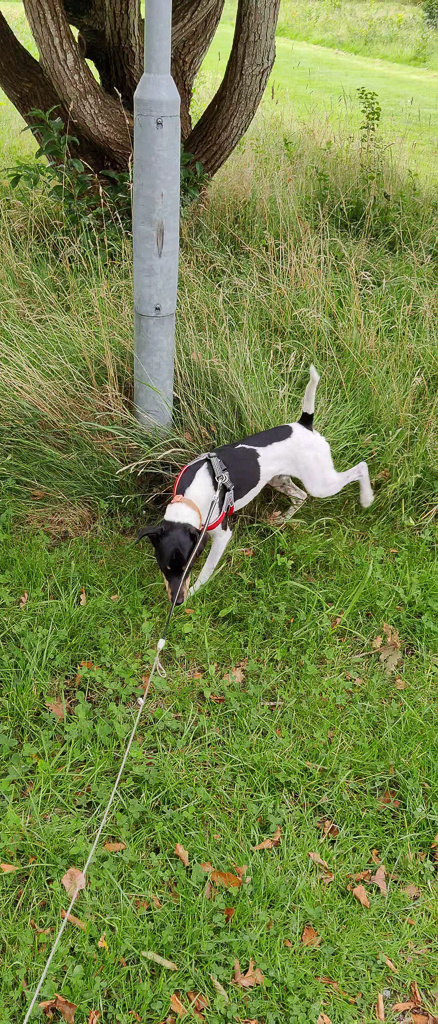Dog: (130, 349, 380, 618)
